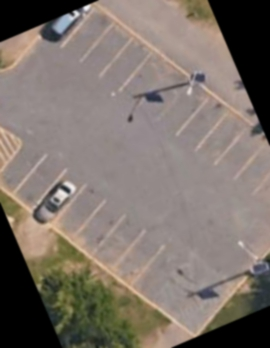parkingspot: (34, 1, 270, 217), (0, 132, 171, 292)
